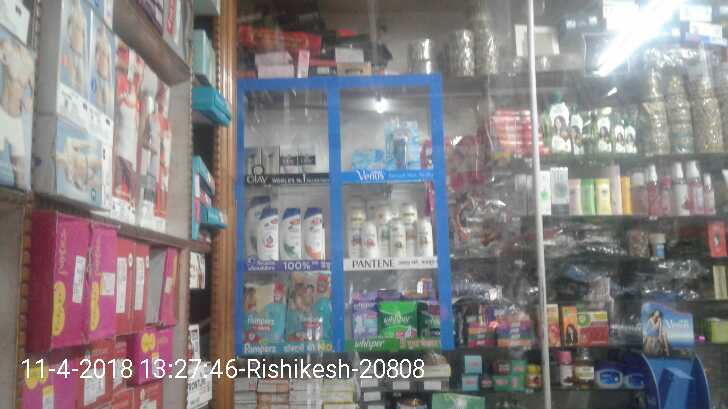venus: (386, 120, 420, 167), (355, 149, 386, 167)
